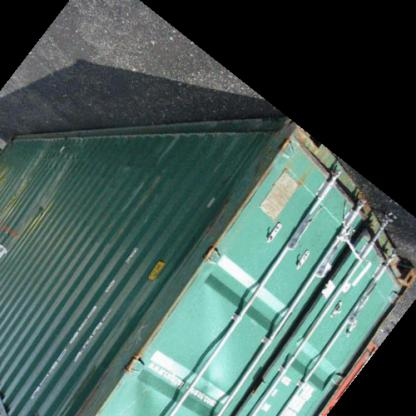Damage: (111, 312, 232, 415), (1, 132, 68, 230)
